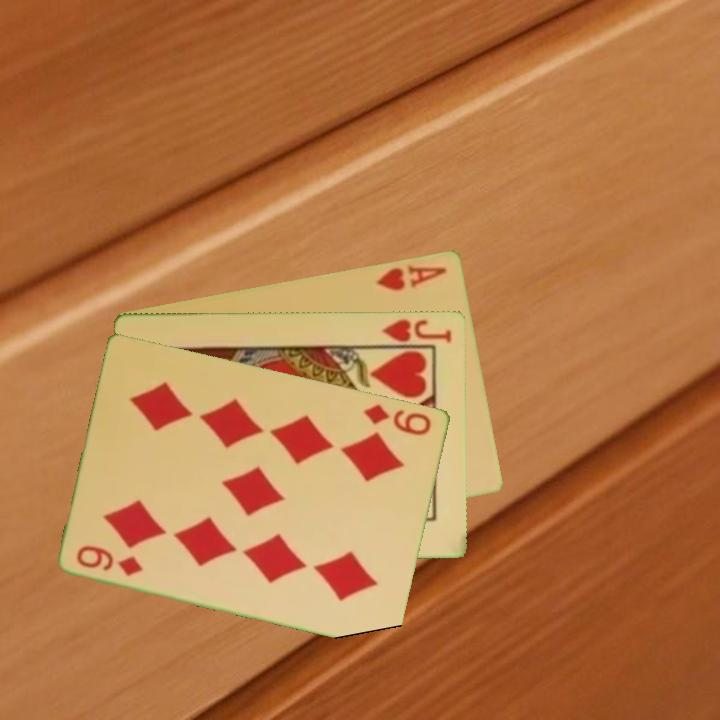9d: (360, 400, 435, 438), (73, 541, 147, 579)
Ah: (373, 260, 450, 293)
Jh: (379, 315, 455, 345)
